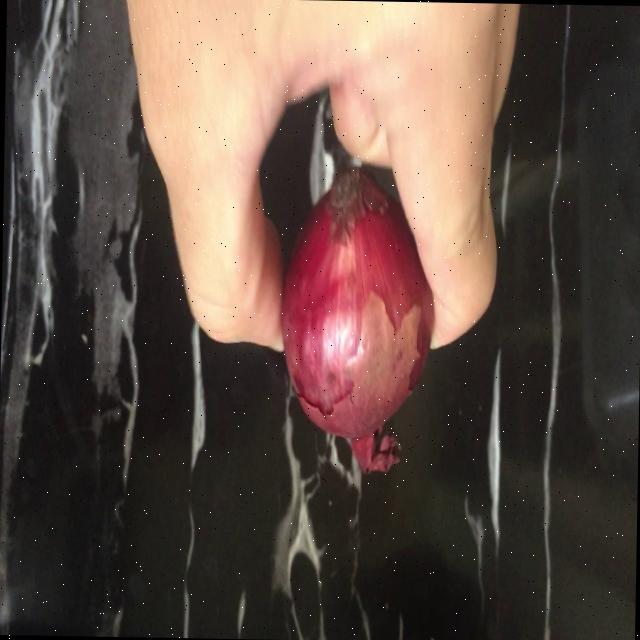Onion: (280, 166, 432, 438)
